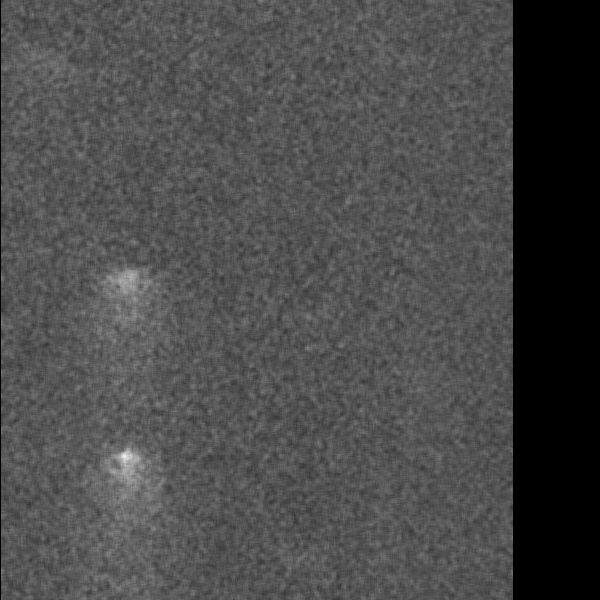spark: (289, 202, 337, 228), (484, 269, 506, 318)
